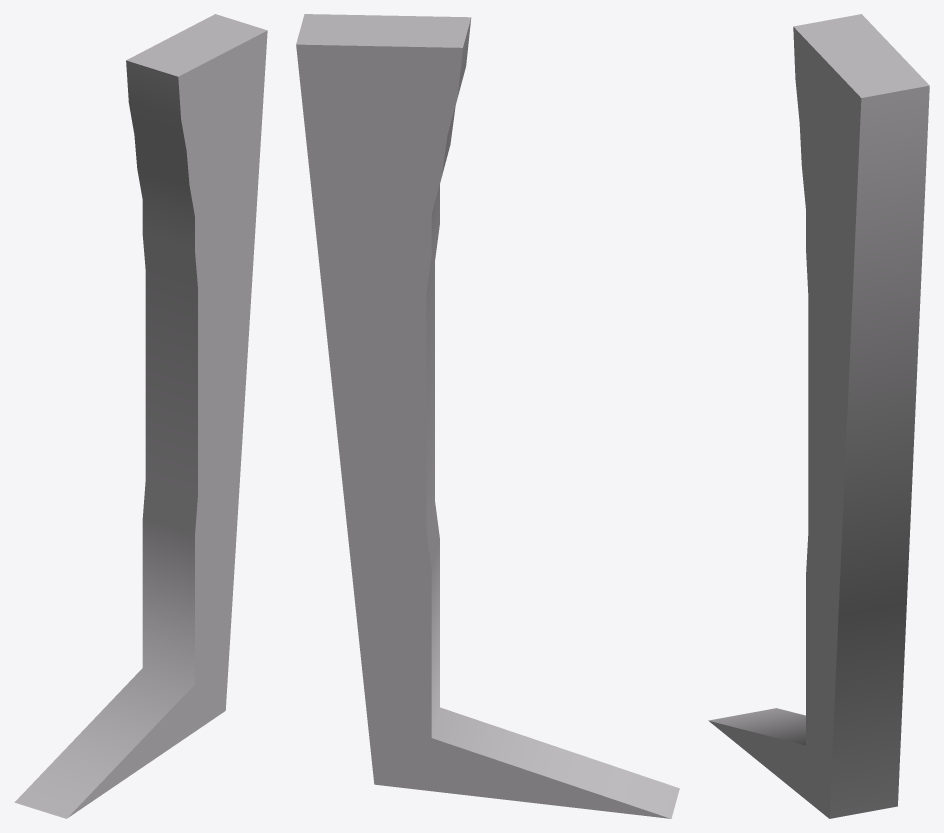
Rendered from dustCharacter_leg.fbx.
3 views of the same model, side by side, from view 1: azimuth 30°, elevation 25°; view 2: azimuth 150°, elevation 25°; view 3: azimuth 270°, elevation 25° (orthographic). The views are drawn at different scales.
Parts seen in each view (by area): view 1: mesh_id22; view 2: mesh_id22; view 3: mesh_id22.
Part boxes in pixels (x1,y1,x2,y2): mesh_id22: (14, 14, 267, 818); mesh_id22: (296, 14, 679, 818); mesh_id22: (708, 14, 929, 818).
Size of the model in its own units: 69.01 by 154 by 39.84.
Materials: 1 (1 with a texture image).
